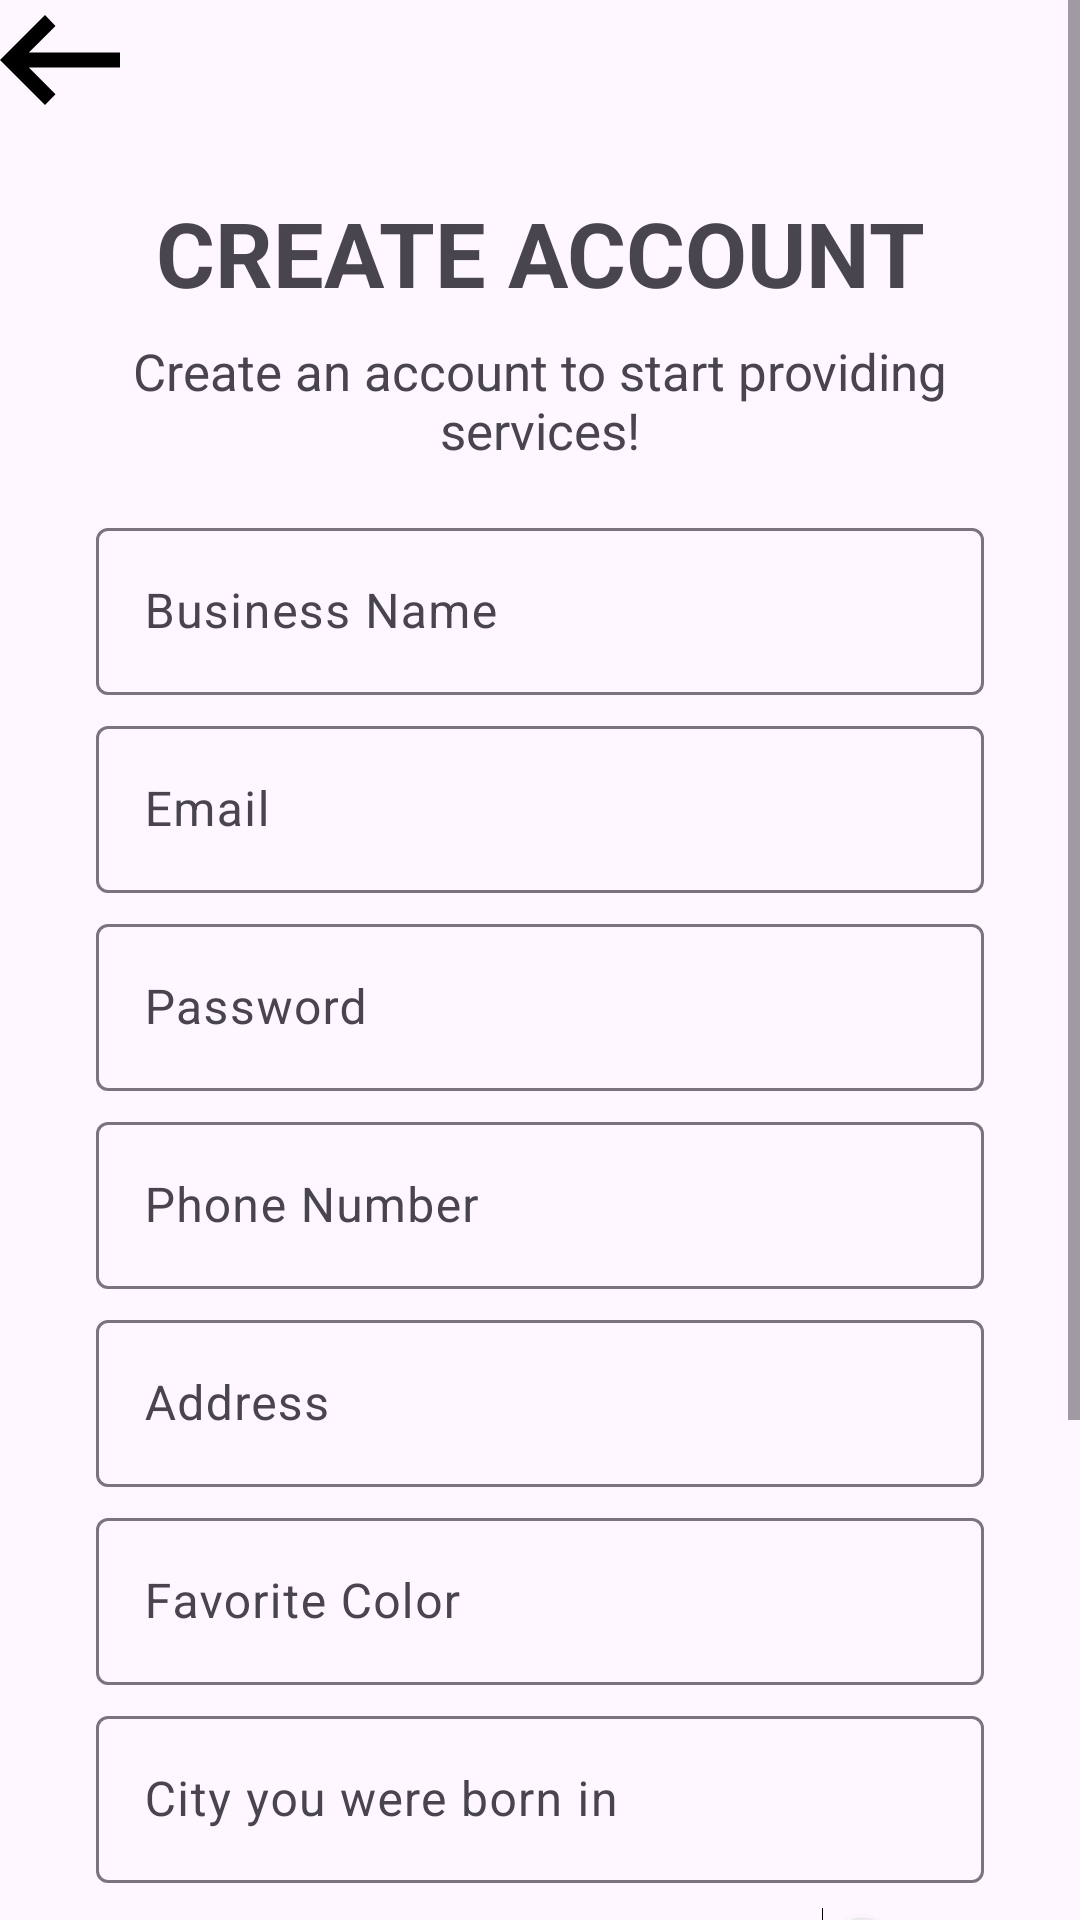

Where to tap for icons on this 1080 × 1920 app screen, as [x,y]:
Back: [60,60]
